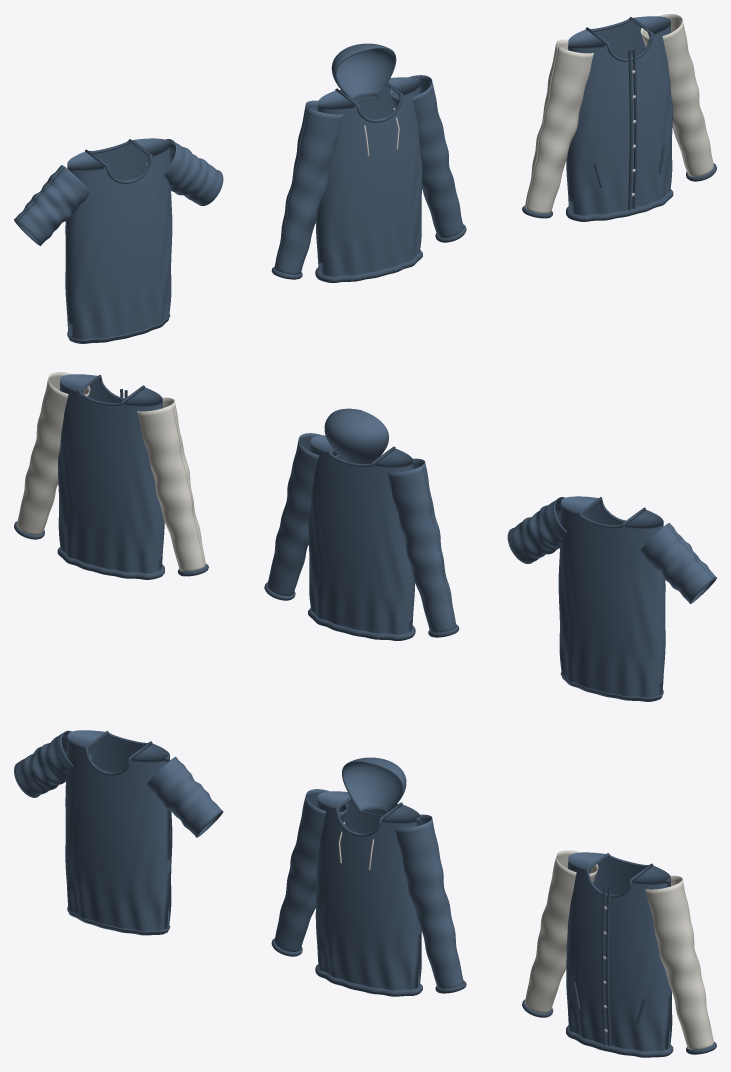
Rendered from garment-masters.glb.
3 views of the same model, one above another, from view 1: azimuth 30°, elevation 25°; view 2: azimuth 150°, elevation 25°; view 3: azimuth 330°, elevation 25° (orthographic).
Visible parts, largest first — view 1: tee_Body, varsity_Body, hoodie_Body, hoodie_Sleeve_-1, varsity_Sleeve_-1, hoodie_Sleeve_1, varsity_Sleeve_1, tee_Sleeve_-1, hoodie_Hood, tee_Sleeve_1, hoodie_KangarooPocket, hoodie_Hem (+5 smaller); view 2: tee_Body, varsity_Body, hoodie_Body, hoodie_Sleeve_-1, varsity_Sleeve_-1, varsity_Sleeve_1, hoodie_Sleeve_1, tee_Sleeve_-1, hoodie_Hood, tee_Sleeve_1, varsity_Hem, hoodie_Hem; view 3: tee_Body, varsity_Body, hoodie_Body, varsity_Sleeve_1, hoodie_Sleeve_1, varsity_Sleeve_-1, hoodie_Sleeve_-1, tee_Sleeve_1, hoodie_Hood, tee_Sleeve_-1, hoodie_KangarooPocket, hoodie_Hem (+5 smaller).
Part boxes in pixels (x1,y1,x2,y2): tee_Body: (65,138,172,343); varsity_Body: (566,16,672,215); hoodie_Body: (315,77,422,276); hoodie_Sleeve_-1: (274,100,343,274); varsity_Sleeve_-1: (525,39,593,213); hoodie_Sleeve_1: (390,75,463,237); varsity_Sleeve_1: (640,14,713,176); tee_Sleeve_-1: (15,165,90,244); hoodie_Hood: (331,43,395,100); tee_Sleeve_1: (145,139,222,205); hoodie_KangarooPocket: (355,230,404,268); hoodie_Hem: (315,250,422,282); tee_Body: (558,496,665,701); varsity_Body: (57,374,164,573); hoodie_Body: (308,435,414,634); hoodie_Sleeve_-1: (387,458,456,632); varsity_Sleeve_-1: (137,397,205,571); varsity_Sleeve_1: (17,372,90,534); hoodie_Sleeve_1: (267,433,339,595); tee_Sleeve_-1: (640,523,715,602); hoodie_Hood: (324,408,388,463); tee_Sleeve_1: (508,497,566,563); varsity_Hem: (57,547,164,579); hoodie_Hem: (308,608,415,640); tee_Body: (65,730,172,935); varsity_Body: (566,852,672,1051); hoodie_Body: (315,791,421,990); varsity_Sleeve_1: (645,875,713,1049); hoodie_Sleeve_1: (394,814,463,988); varsity_Sleeve_-1: (525,850,598,1012); hoodie_Sleeve_-1: (274,789,347,951); tee_Sleeve_1: (147,756,221,835); hoodie_Hood: (342,757,406,814); tee_Sleeve_-1: (15,730,91,796); hoodie_KangarooPocket: (332,944,383,981); hoodie_Hem: (315,964,422,996).
Bounding box in the file's own units: 2.93 × 0.8711 × 0.2511.
